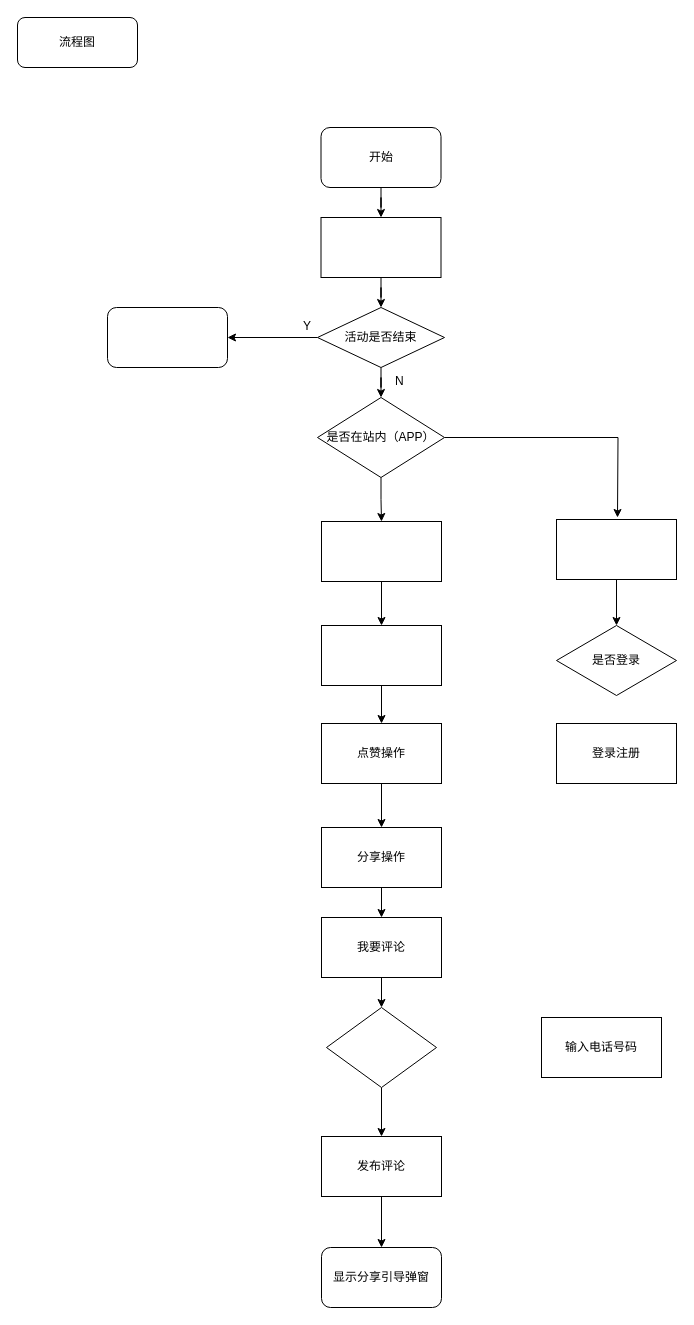
Image size: 694x1325. Some labels were removed from this diagram. The centre of each missing label's shape, as x and y in pixels:
是否获取到用户ID: (x=381, y=1047)
显示活动数据: (x=381, y=655)
活动结束，显示活动结束提示弹窗: (x=167, y=337)
活动落地页面: (x=380, y=247)
站内（APP）: (x=381, y=551)
非站内（微信、H5）: (x=616, y=549)
